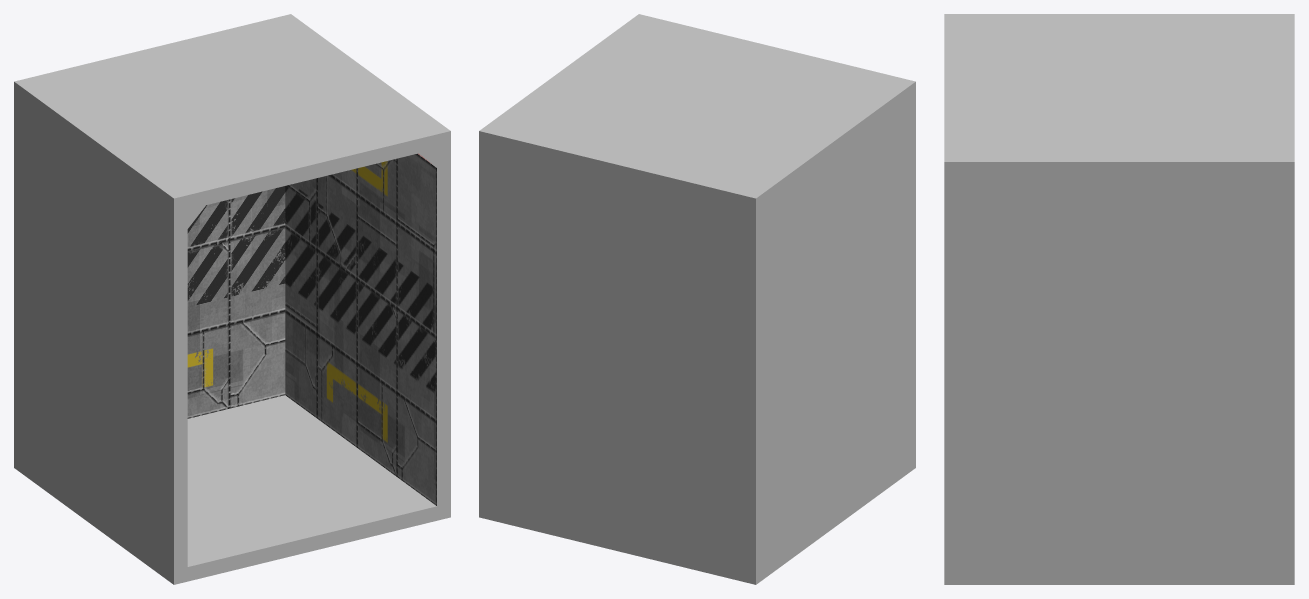
The picture shows the model from 3 angles, left to right: view 1: azimuth 30°, elevation 25°; view 2: azimuth 150°, elevation 25°; view 3: azimuth 270°, elevation 25°; orthographic projection. The views are drawn at different scales.
Visible parts, largest first — view 1: Body.006; view 2: Body.006; view 3: Body.006.
Boxes of the visible parts, left/top/right/bottom form: Body.006: left=14, top=14, right=450, bottom=584; Body.006: left=479, top=14, right=915, bottom=584; Body.006: left=944, top=14, right=1294, bottom=584.
Size of the model in its own units: 1.5 by 2 by 1.5.
3 materials, 2 textured.
